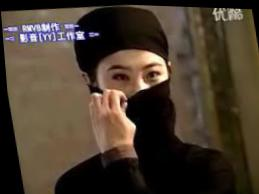WRONG: (90, 45, 175, 134)
